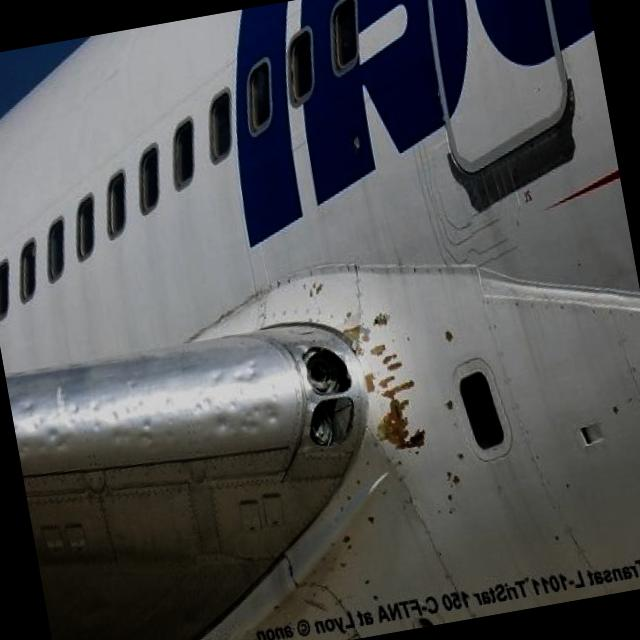dent: (8, 348, 284, 482)
